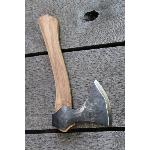Kapak: (24, 8, 124, 138)
